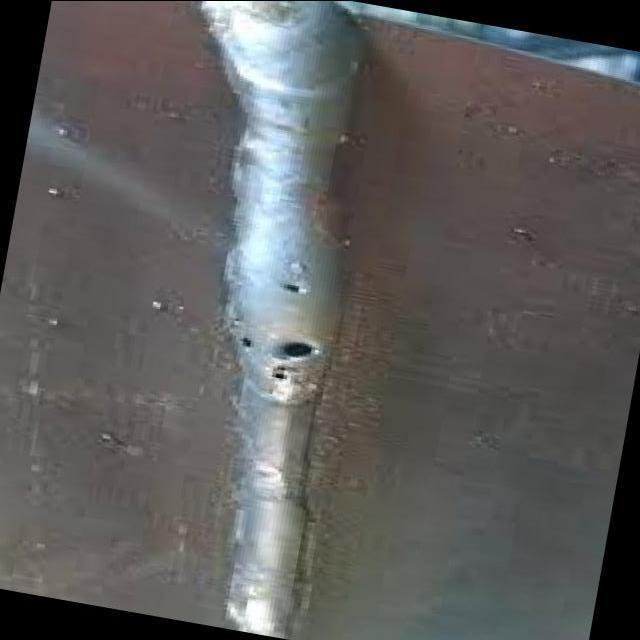defect: (269, 336, 321, 383), (225, 330, 262, 354), (277, 280, 310, 300)
